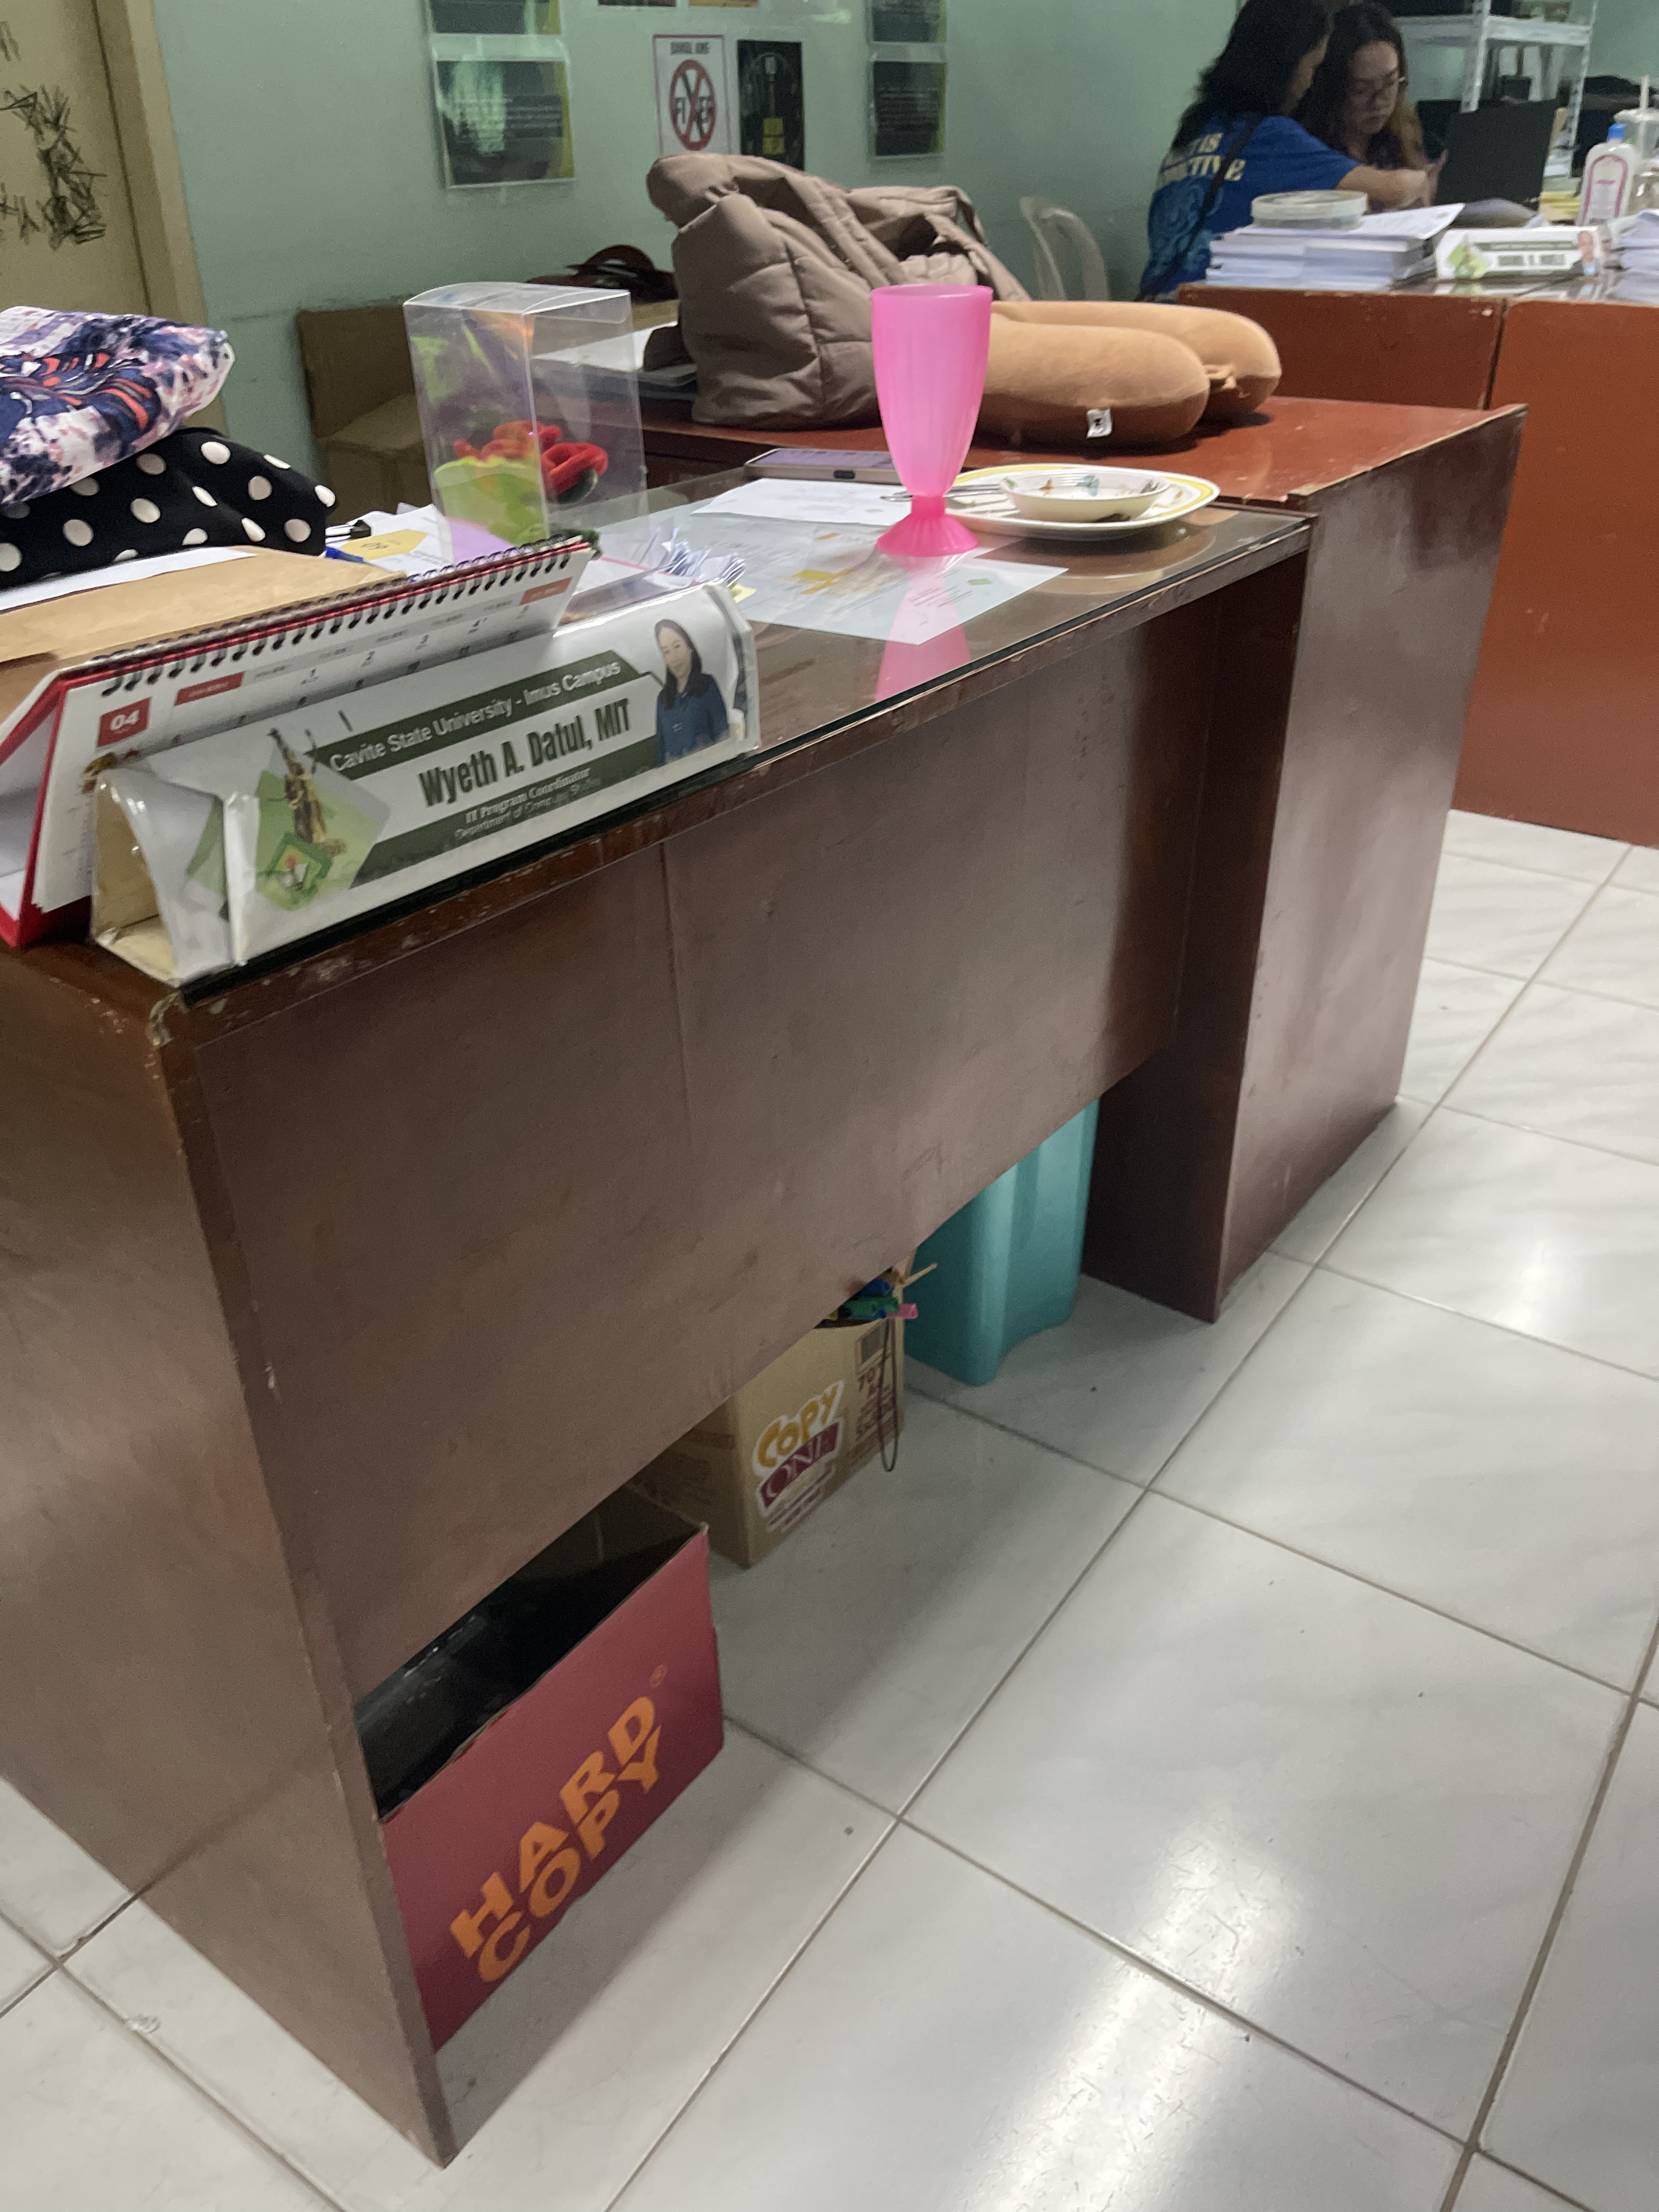table2: (0, 381, 1523, 2203)
